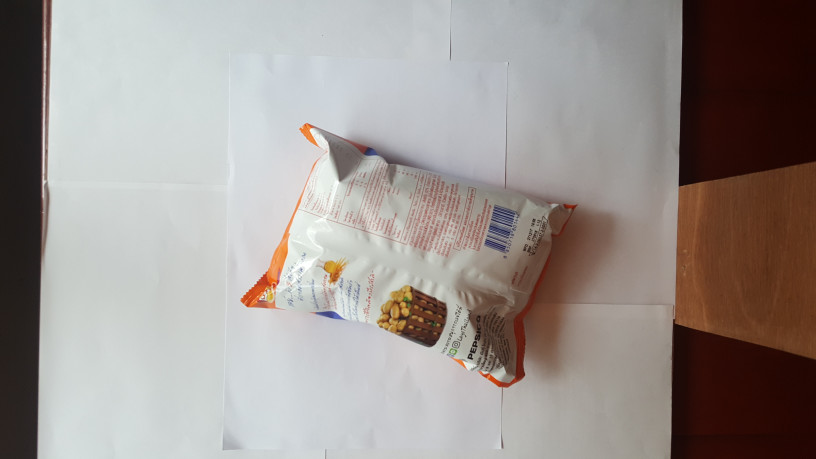lays-bbq: (233, 122, 583, 398)
